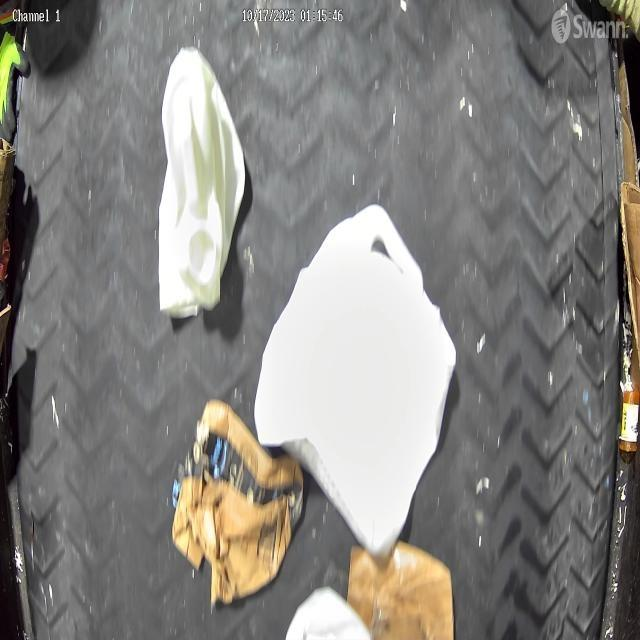milk_jug: (258, 201, 457, 563), (157, 41, 246, 319)
